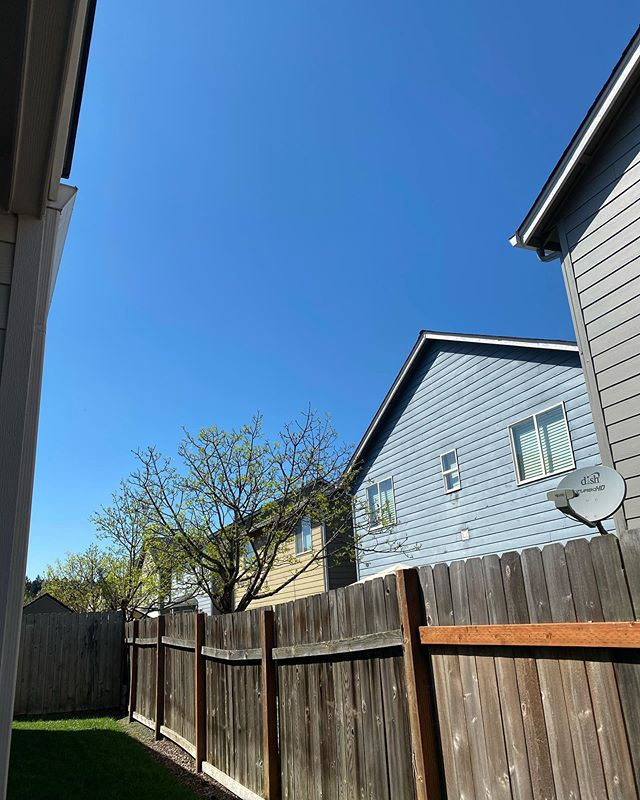building: (326, 327, 614, 580), (512, 36, 640, 528), (204, 483, 347, 592)
sky: (56, 1, 633, 558)
tree: (117, 430, 335, 619)
